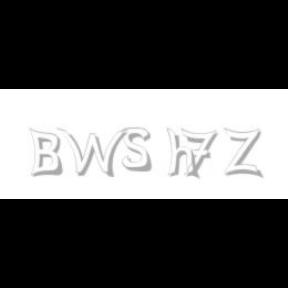7: (180, 128, 217, 178)
B: (28, 128, 62, 178)
S: (122, 128, 152, 172)
W: (56, 128, 128, 178)
Z: (224, 128, 262, 178)
h: (166, 128, 201, 180)
